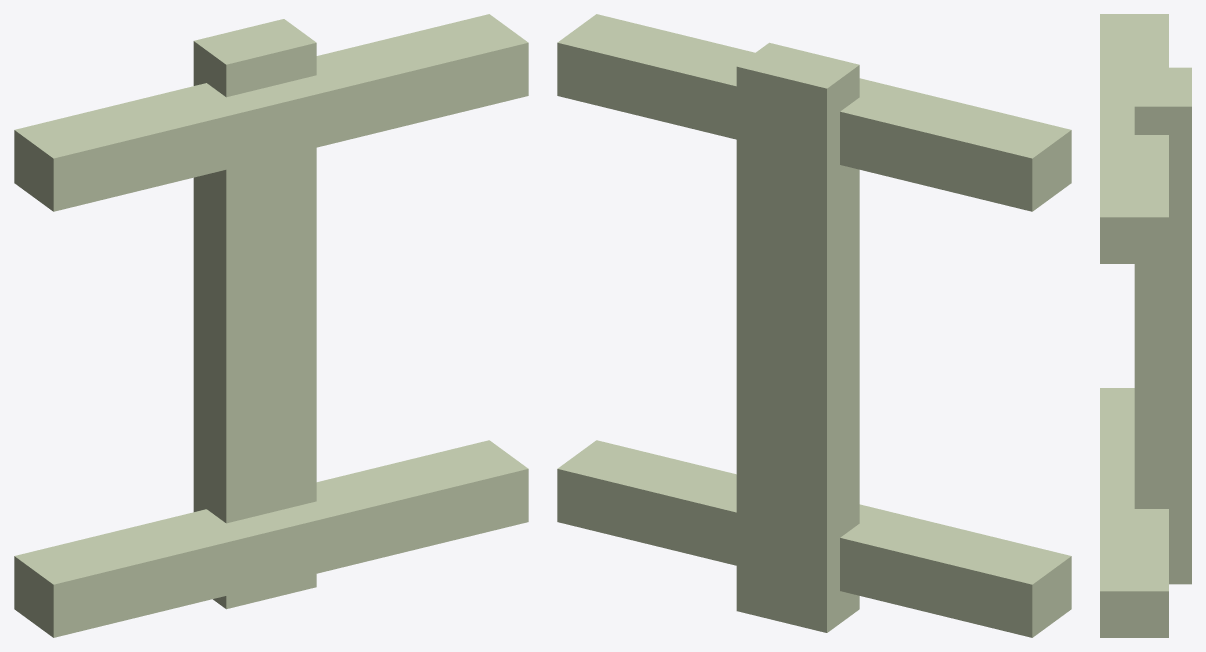
File: furniture_sign_mount_bracket_single.glb
3 renders of one model, left to right at view 1: azimuth 30°, elevation 25°; view 2: azimuth 150°, elevation 25°; view 3: azimuth 270°, elevation 25°, orthographic. The views are drawn at different scales.
Parts seen in each view (by area): view 1: clamp_0, rail_upper, rail_lower; view 2: clamp_0, rail_upper, rail_lower; view 3: clamp_0, rail_upper, rail_lower.
Boxes of the visible parts, left/top/right/bottom form: clamp_0: left=193, top=19, right=316, bottom=609; rail_upper: left=14, top=14, right=528, bottom=211; rail_lower: left=14, top=440, right=528, bottom=637; clamp_0: left=736, top=42, right=859, bottom=632; rail_upper: left=557, top=14, right=1071, bottom=211; rail_lower: left=557, top=440, right=1071, bottom=637; clamp_0: left=1134, top=67, right=1191, bottom=584; rail_upper: left=1100, top=14, right=1168, bottom=263; rail_lower: left=1100, top=388, right=1168, bottom=637.
Bounding box in the file's own units: 0.42 × 0.46 × 0.08.
